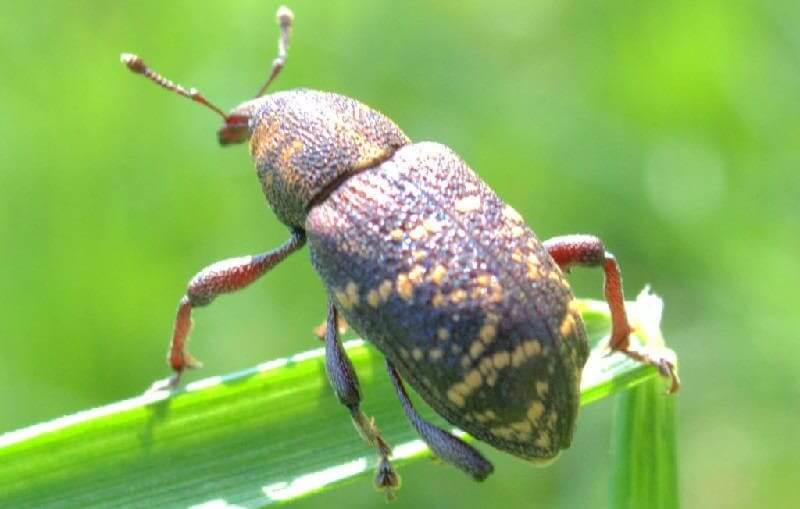dolgonosik: (118, 5, 685, 507)
